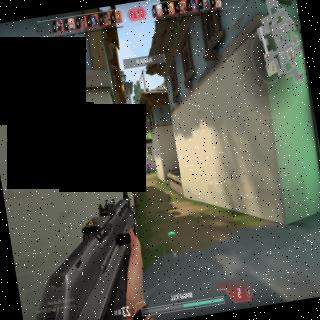ENEMY-BODY: (146, 158, 152, 176)
ENEMY-HEAD: (147, 160, 148, 162)
